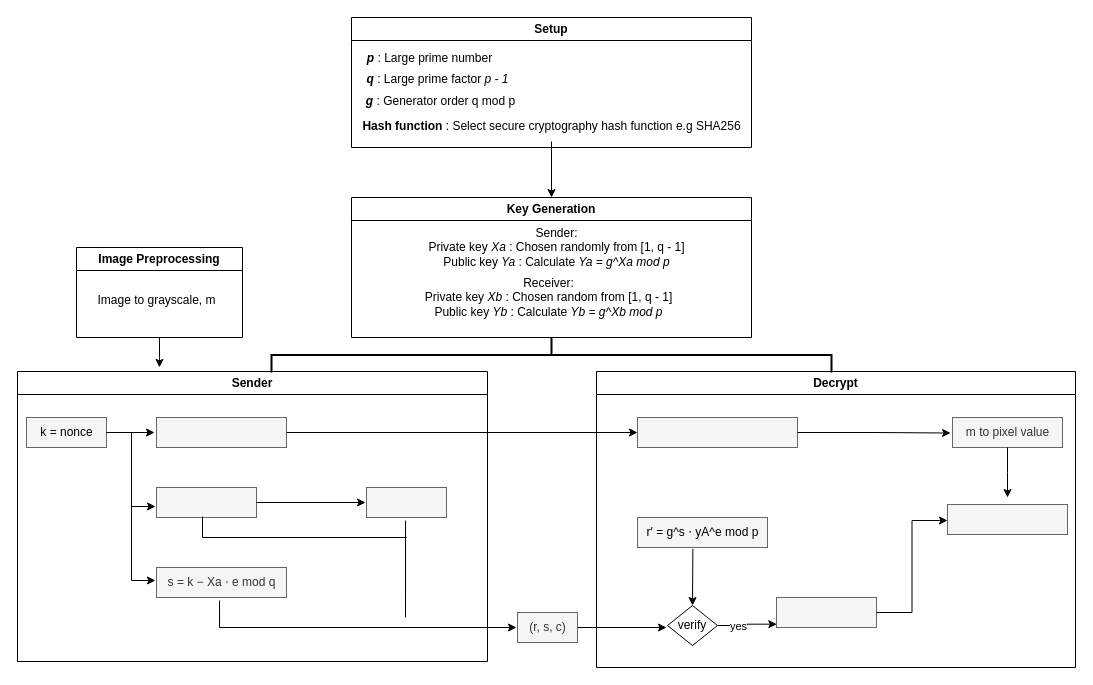
This 1093x685 diagram has some shape labels left out. The shapes that lost their labels are listed below. From the top down, each one's centre as x and y in pixels, then its label:
At [221,432]: "c = m ⋅ Y b^k mod p".
At [717,432]: "m = c ⋅ ( y B^ k )^( − 1) mod p".
At [206,502]: "r = g^k mod p".
At [406,502]: "e = H ( m ∥ r )".
At [1007,519]: "image reconstruct".
At [826,612]: "Signature valid".
